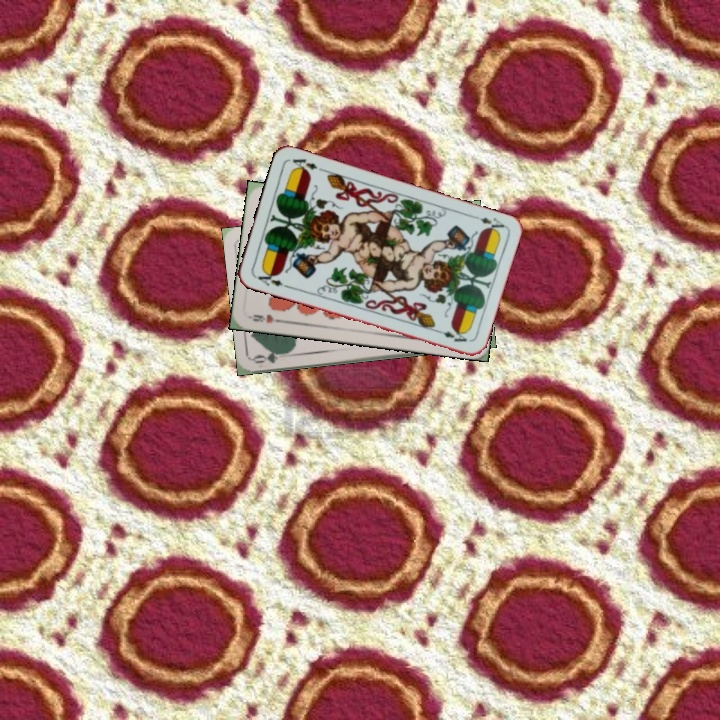EA: (468, 211, 507, 235), (251, 267, 291, 290)
GO: (250, 347, 291, 366)
H9: (246, 310, 286, 326)
